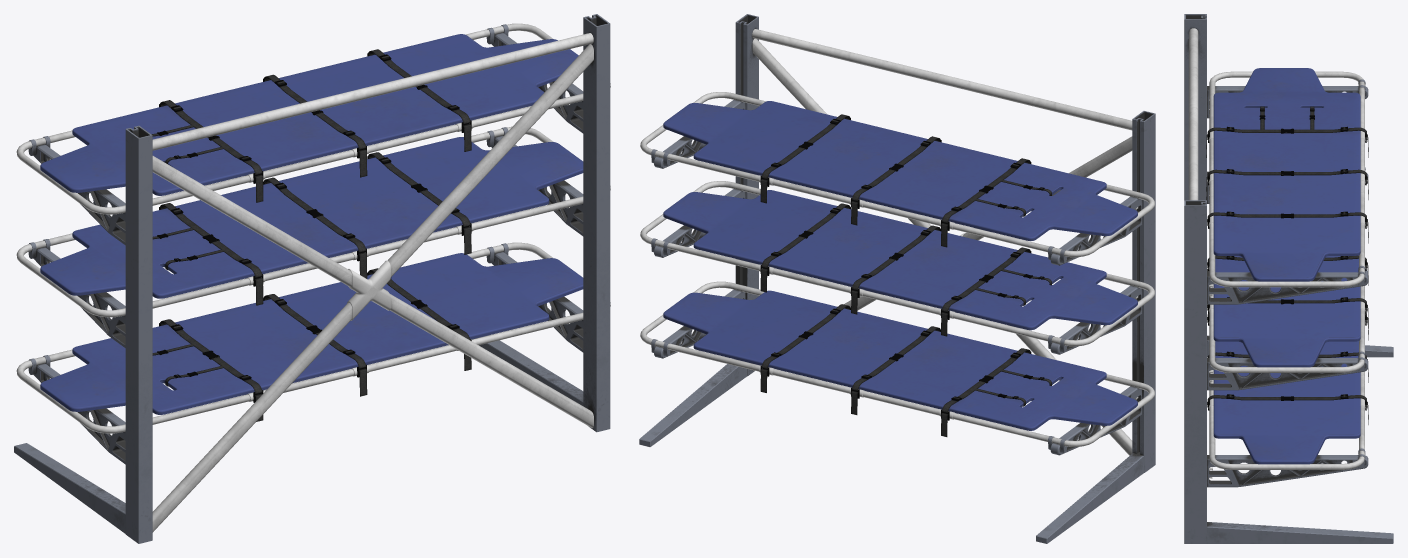
Rendered from L_danjiachuan.FBX.
The picture shows the model from 3 angles, left to right: view 1: azimuth 30°, elevation 25°; view 2: azimuth 150°, elevation 25°; view 3: azimuth 270°, elevation 25°; orthographic projection. The views are drawn at different scales.
Visible parts, largest first — view 1: L_danjiachuan; view 2: L_danjiachuan; view 3: L_danjiachuan.
Part boxes in pixels (x1,y1,x2,y2): L_danjiachuan: [14, 14, 610, 543]; L_danjiachuan: [639, 14, 1155, 543]; L_danjiachuan: [1184, 14, 1393, 543].
Size of the model in its own units: 2.52 by 1.87 by 1.05.
